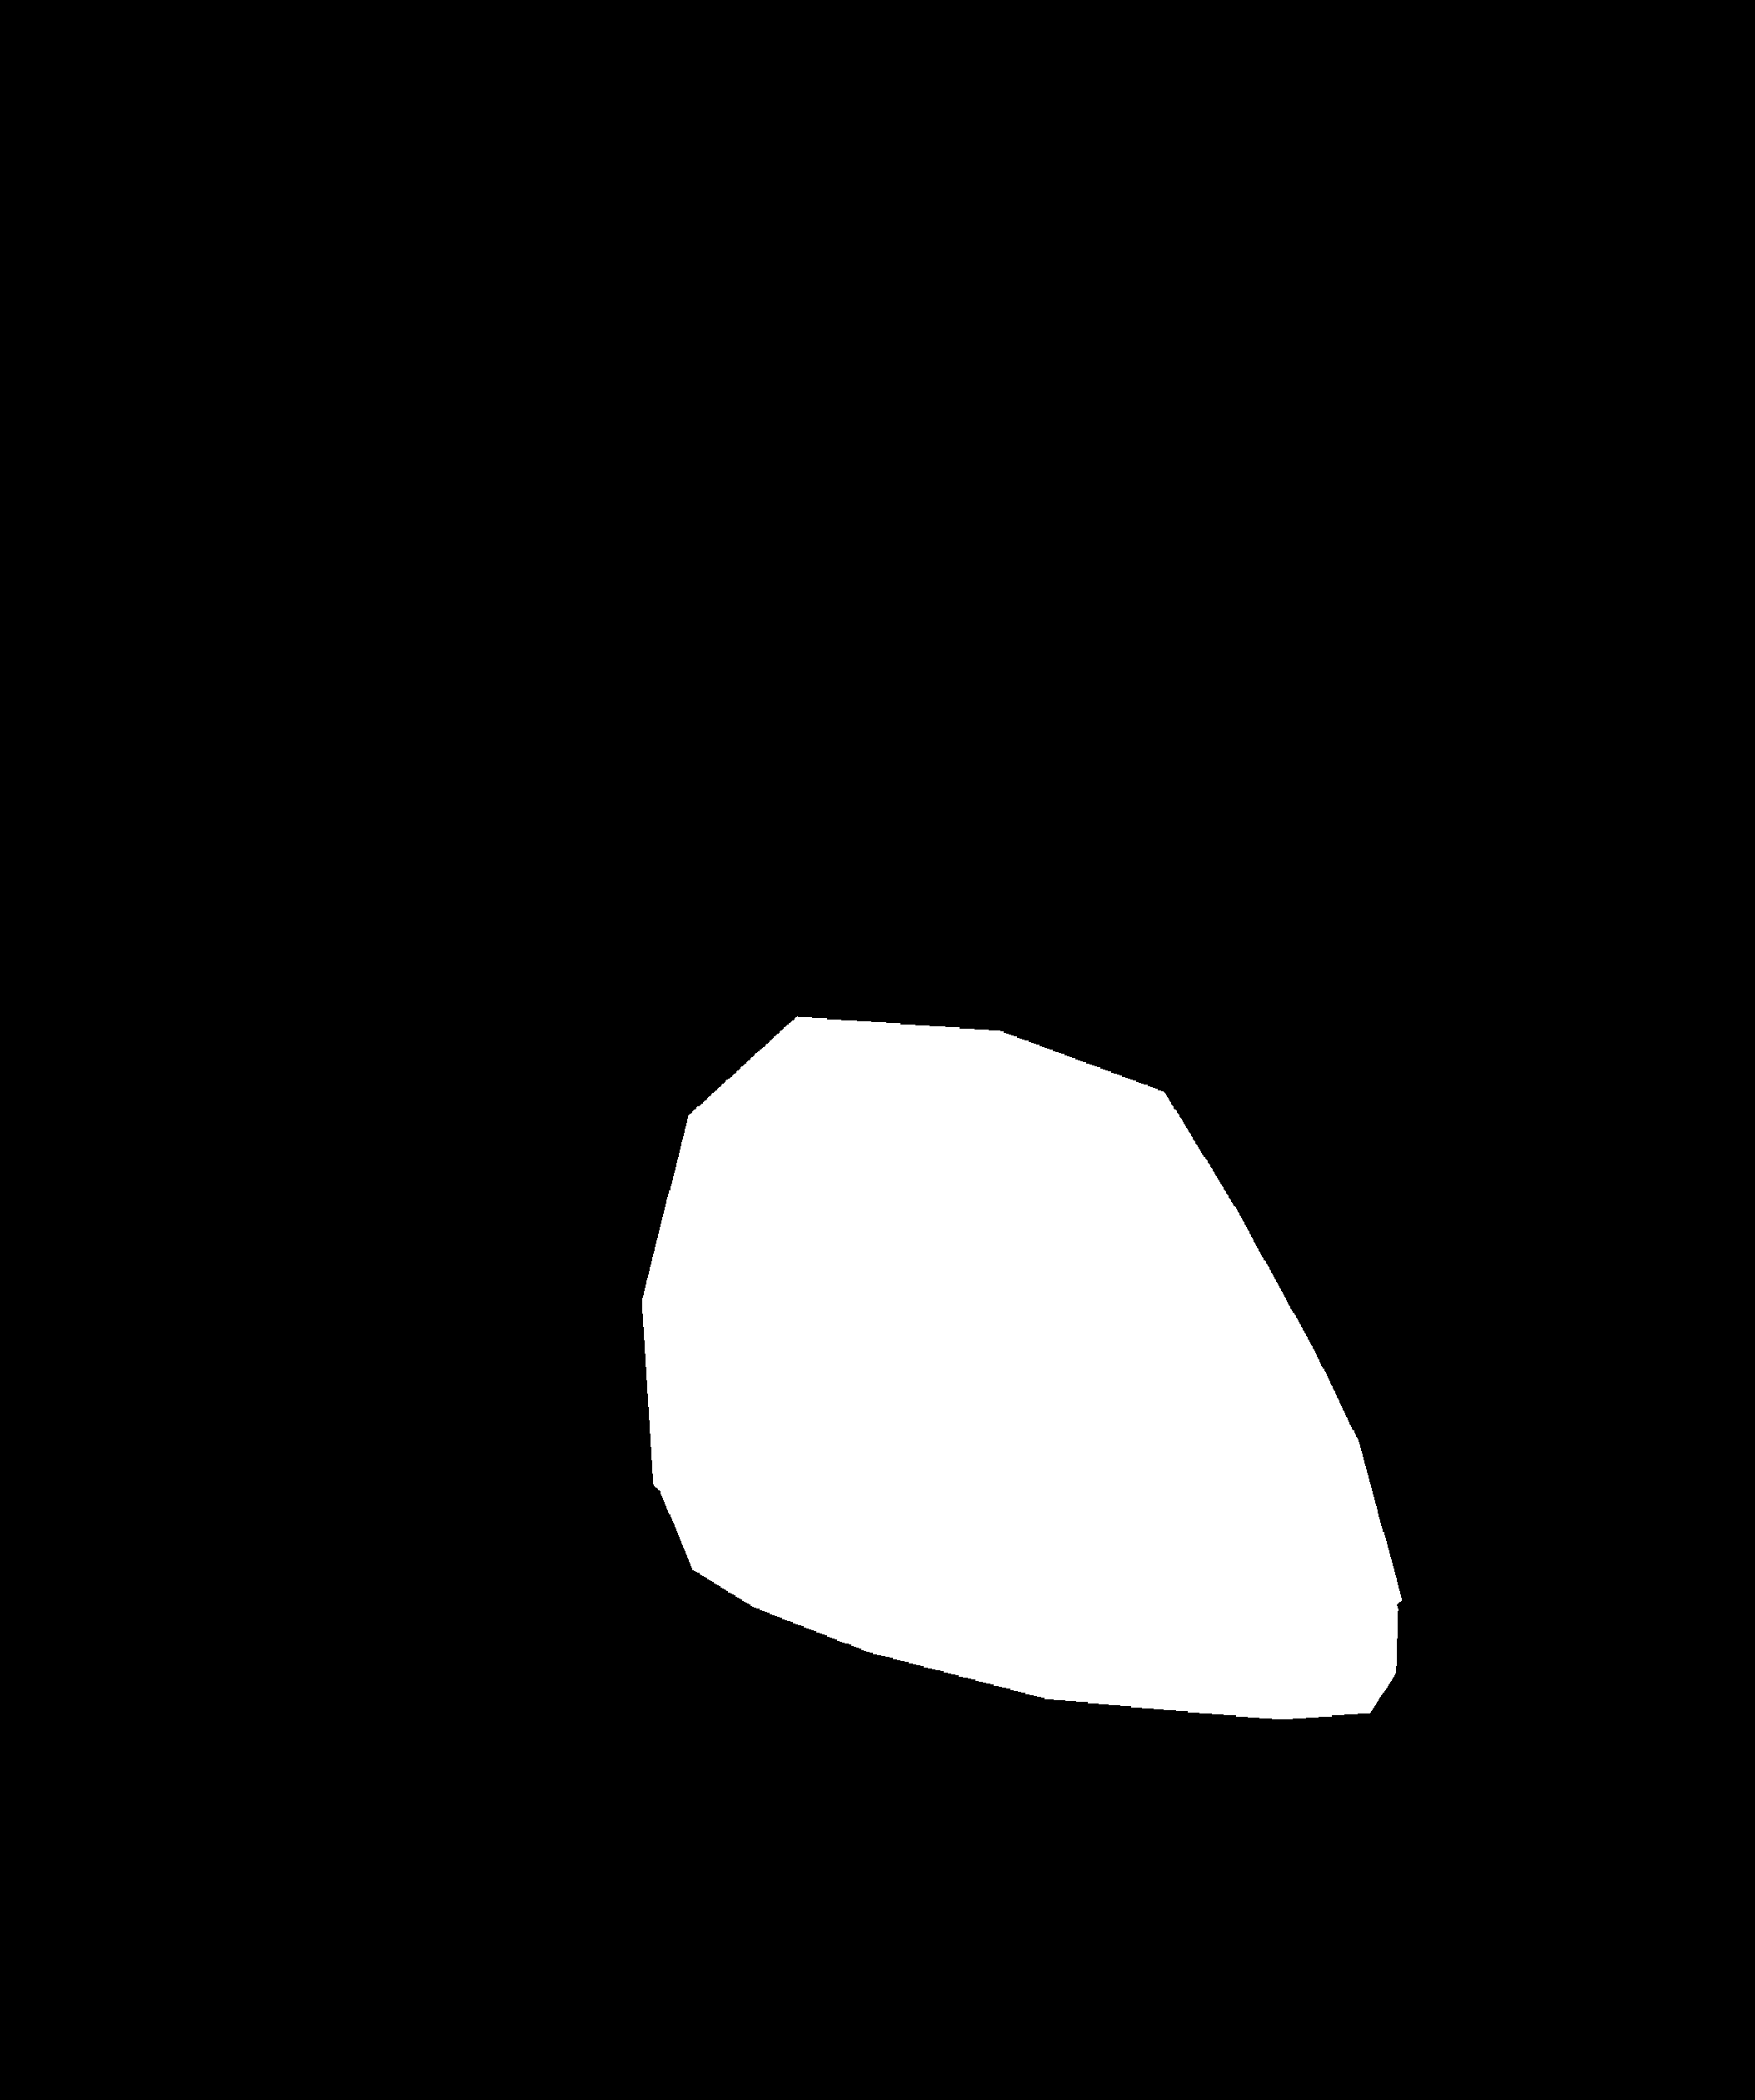heart: (600, 1315, 1429, 1915)
left_lung: (206, 300, 848, 1922)
right_lung: (1033, 340, 1579, 1742)
